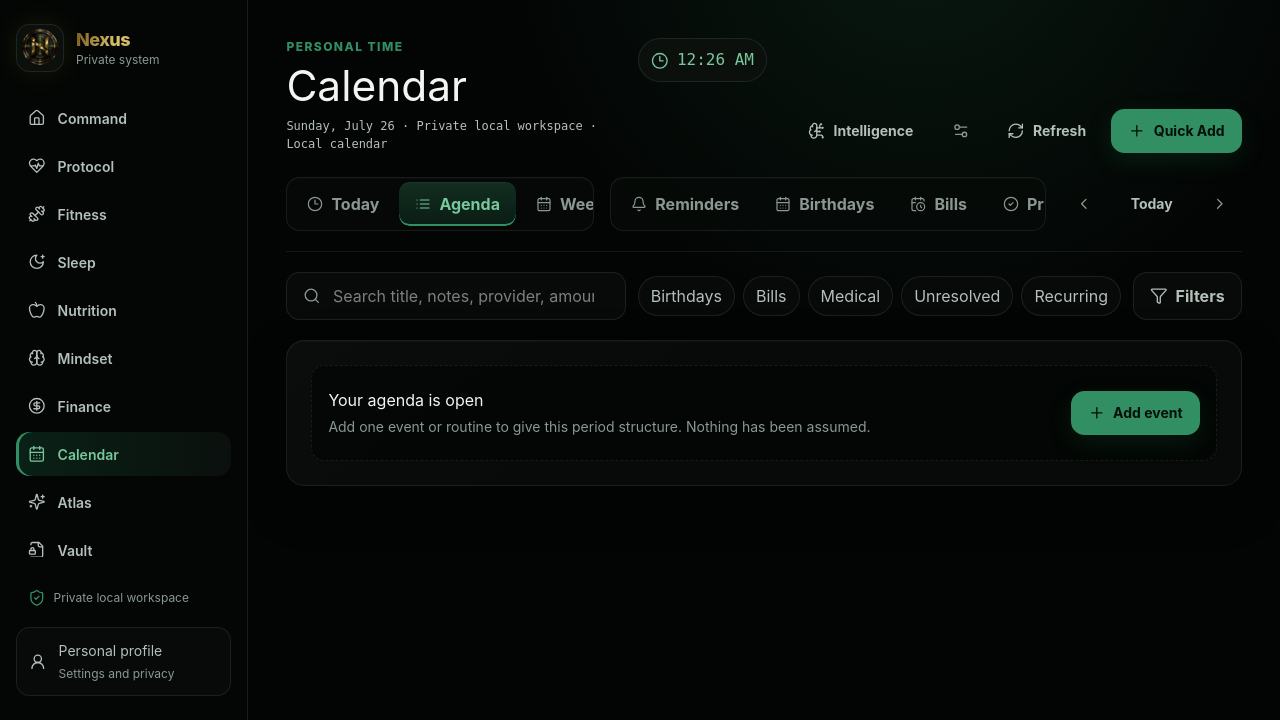
Test case: Calendar workflow › keeps a legitimate overlap after explicit acknowledgement and reports offline state
The width and height of the screenshot is (1280, 720).
Expected: the heading "Your agenda is open" is shown, [328,390,484,410]
Click the button "Add event": x=1135, y=413 [1070,391,1200,435]
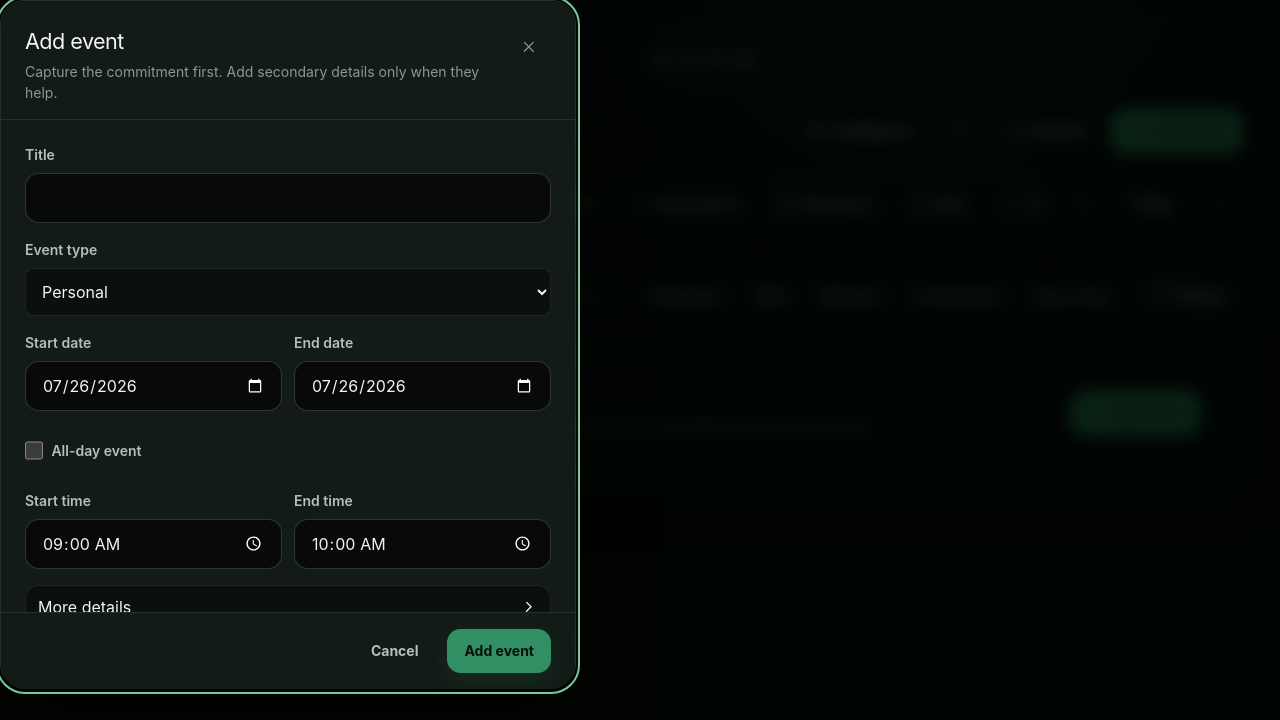
In the field labelled "Title": x=288, y=198 [25,173,551,223], type "Double-booked by choice"
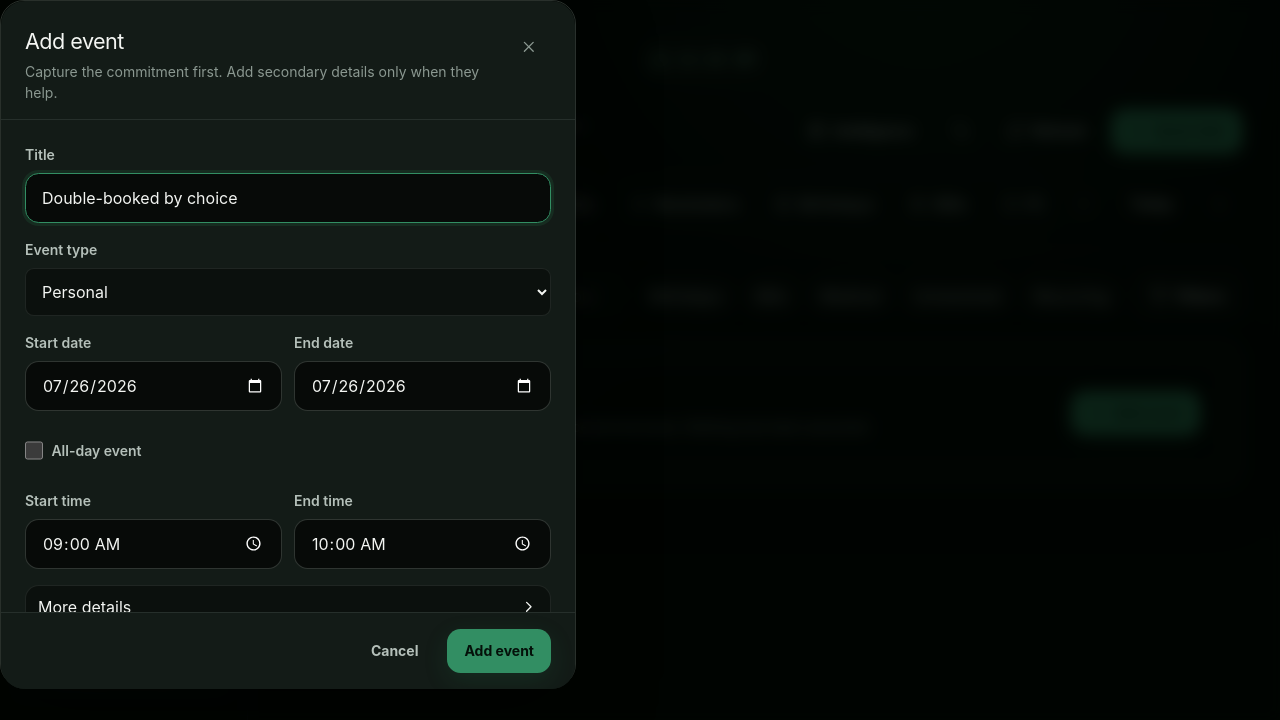
Click the button "Add event": x=499, y=651 [448,629,551,673]
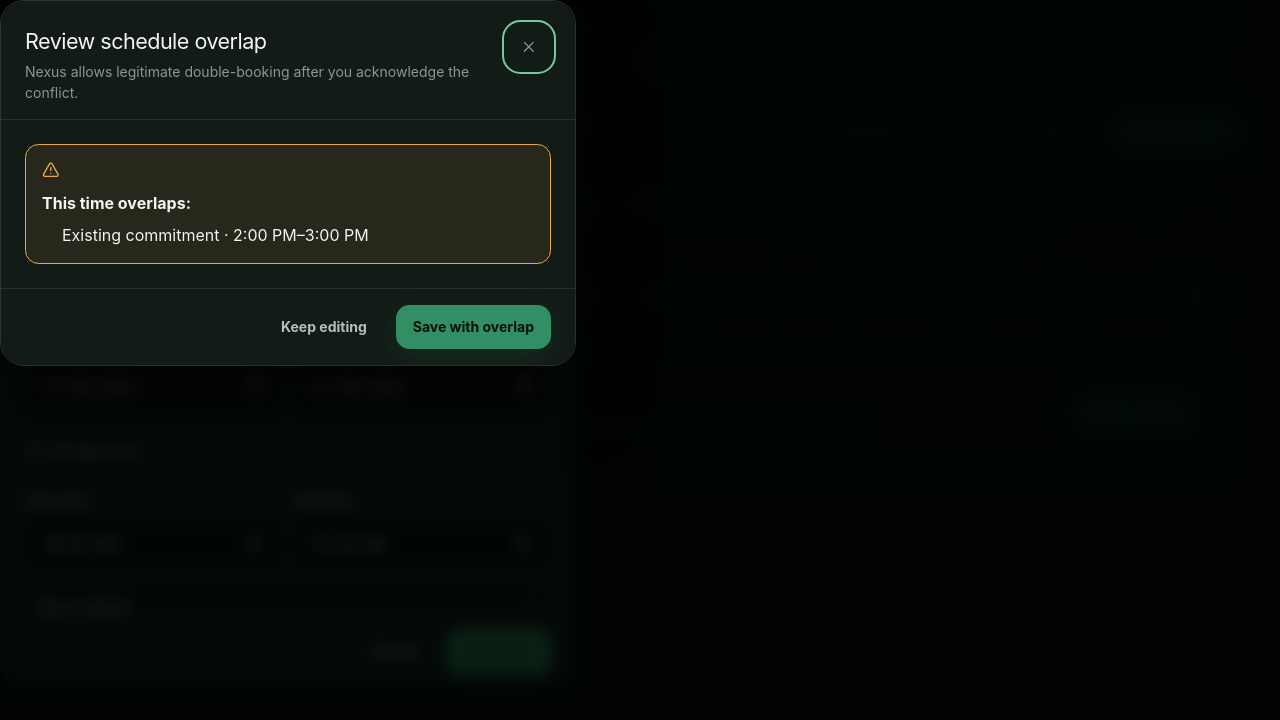
Expected: the dialog "Review schedule overlap" is shown, [0,0,576,366]
Expected: the list item "Existing commitment · 2:00 PM–3:00 PM" is shown, [62,225,369,245]
Click the button "Save with overlap": x=473, y=327 [396,305,551,349]
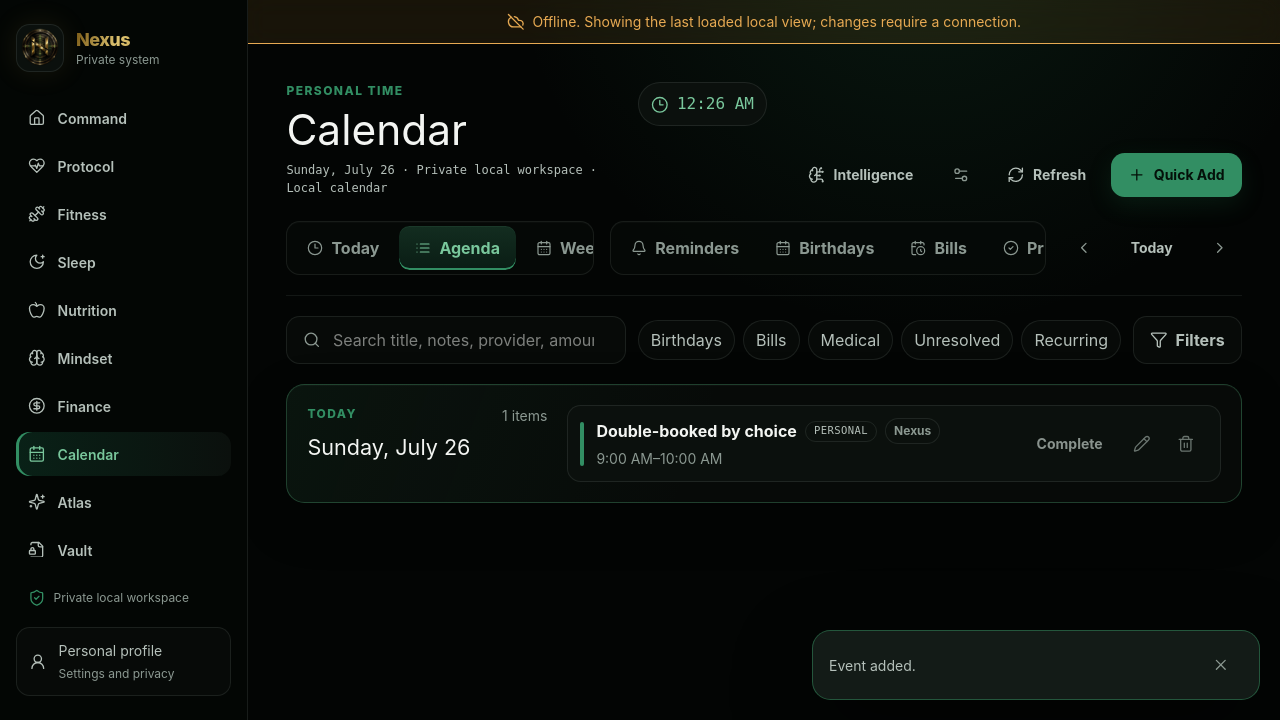
Expected: the text "Double-booked by choice" is shown, [596,419,797,443]
Expected: the text "Offline. Showing the last loaded local view" is shown, [533,13,1021,30]
